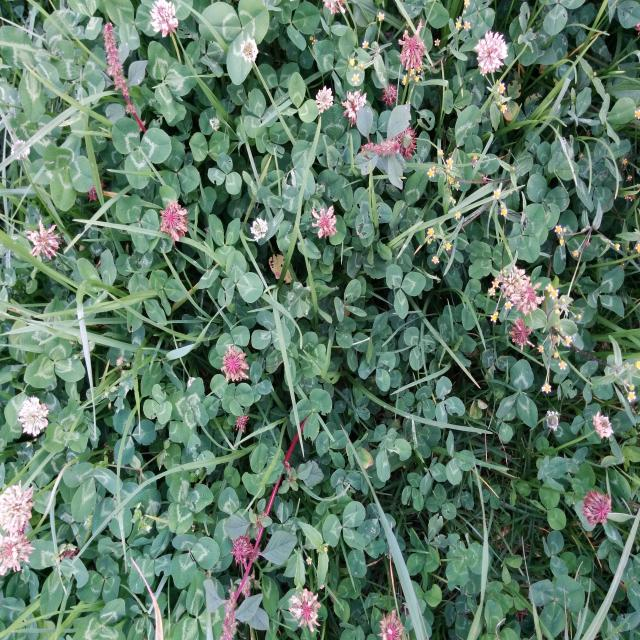Four Leaf Clover: (168, 378, 209, 447)
